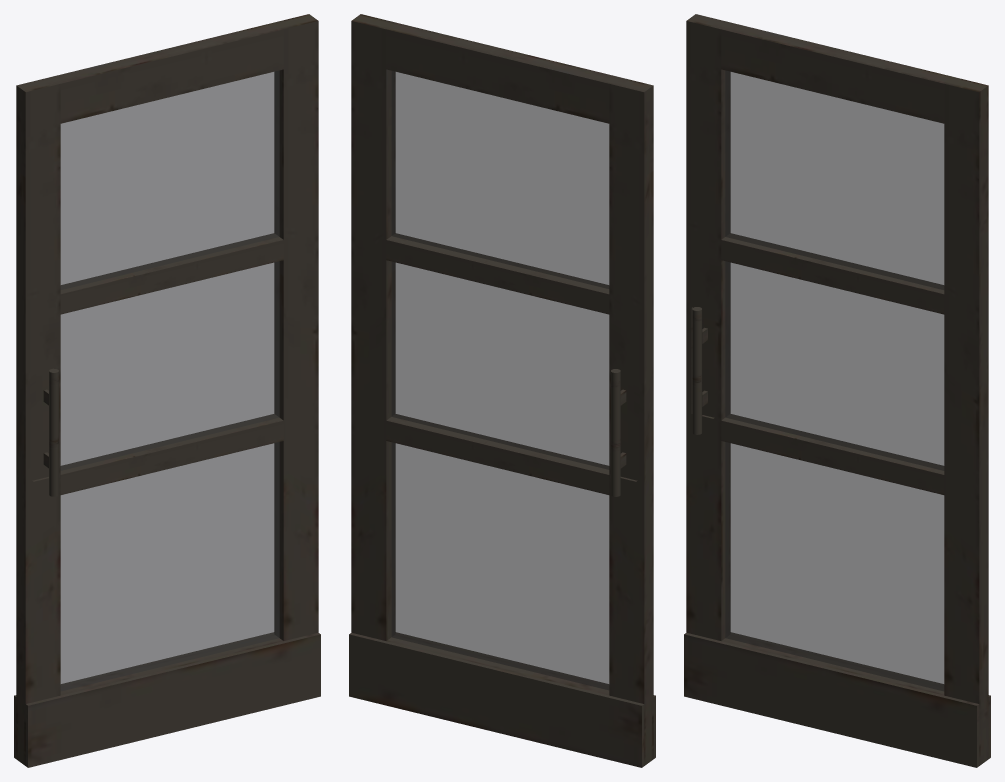
The model's file is Door_3.glb.
The picture shows the model from 3 angles, left to right: view 1: azimuth 30°, elevation 25°; view 2: azimuth 150°, elevation 25°; view 3: azimuth 330°, elevation 25°; orthographic projection.
Parts seen in each view (by area): view 1: Door_3; view 2: Door_3; view 3: Door_3.
Boxes of the visible parts, x1,y1,x2,y2 form: Door_3: [14, 14, 320, 767]; Door_3: [349, 14, 655, 767]; Door_3: [684, 14, 990, 767].
Bounding box in the file's own units: 1 × 2.2 × 0.1884.
2 materials, 1 textured.
